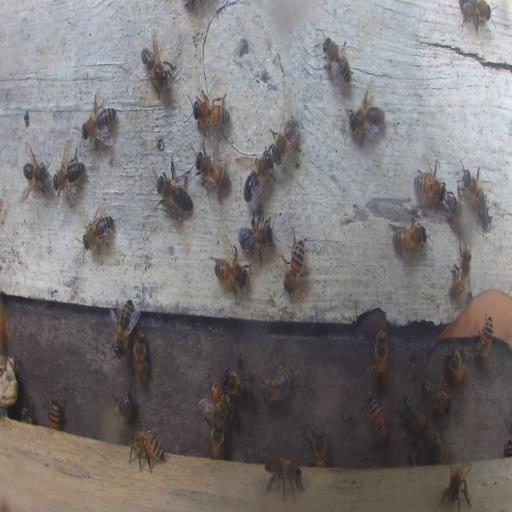bee: (154, 156, 192, 224), (347, 84, 387, 144), (456, 161, 492, 226), (140, 34, 176, 96), (262, 454, 306, 502), (53, 140, 85, 204), (81, 92, 118, 146), (269, 110, 302, 166), (244, 144, 274, 205), (320, 34, 353, 89), (194, 146, 230, 196), (440, 459, 474, 511), (127, 427, 164, 474), (213, 252, 249, 297), (238, 219, 272, 265), (282, 230, 306, 294), (22, 148, 50, 200), (111, 299, 135, 356), (391, 218, 425, 258), (82, 212, 115, 251), (414, 162, 446, 202), (366, 393, 388, 448), (459, 0, 495, 33), (400, 394, 428, 436), (223, 361, 252, 401), (451, 243, 472, 298), (260, 366, 292, 402), (447, 196, 474, 238), (208, 379, 233, 421), (191, 100, 229, 127), (422, 381, 452, 414), (474, 316, 494, 362), (133, 330, 149, 386), (373, 329, 388, 386), (446, 347, 468, 383), (310, 424, 327, 467), (0, 288, 11, 351), (113, 386, 133, 420), (207, 418, 224, 457), (49, 400, 62, 430), (429, 434, 443, 460), (414, 438, 427, 462), (21, 405, 33, 422)
